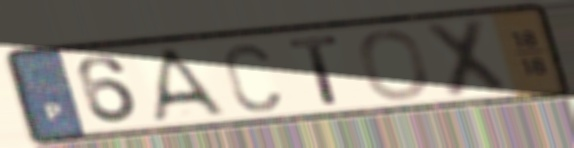6: (75, 54, 141, 125)
A: (149, 45, 233, 125)
C: (220, 41, 284, 115)
O: (356, 27, 434, 103)
T: (285, 32, 345, 108)
X: (419, 15, 513, 101)
